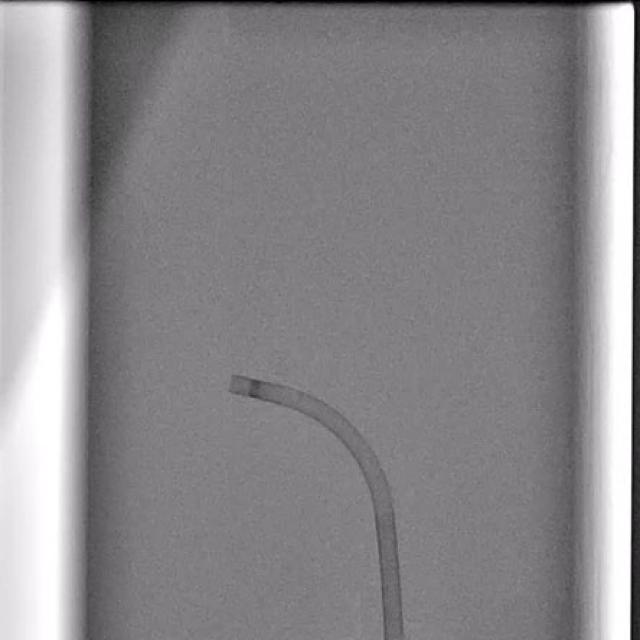bend: (373, 498, 395, 514)
entry: (384, 634, 404, 640)
marker: (248, 380, 263, 398)
tip: (226, 376, 236, 394)
